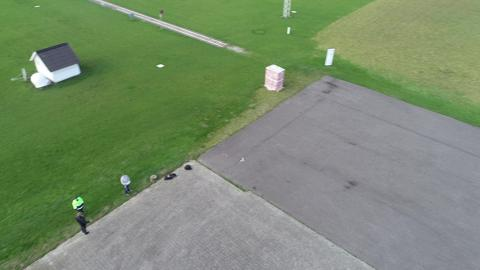RockwoolPallet: (264, 64, 286, 92)
